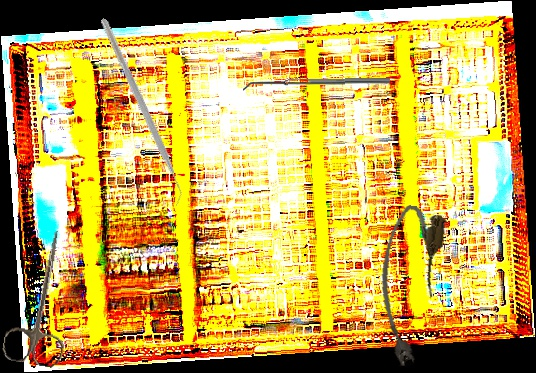Cannula: (367, 202, 449, 370)
Chopper: (37, 17, 241, 209)
Iris Scissors: (0, 224, 84, 370)
Spatula Surgical: (242, 77, 391, 92)
